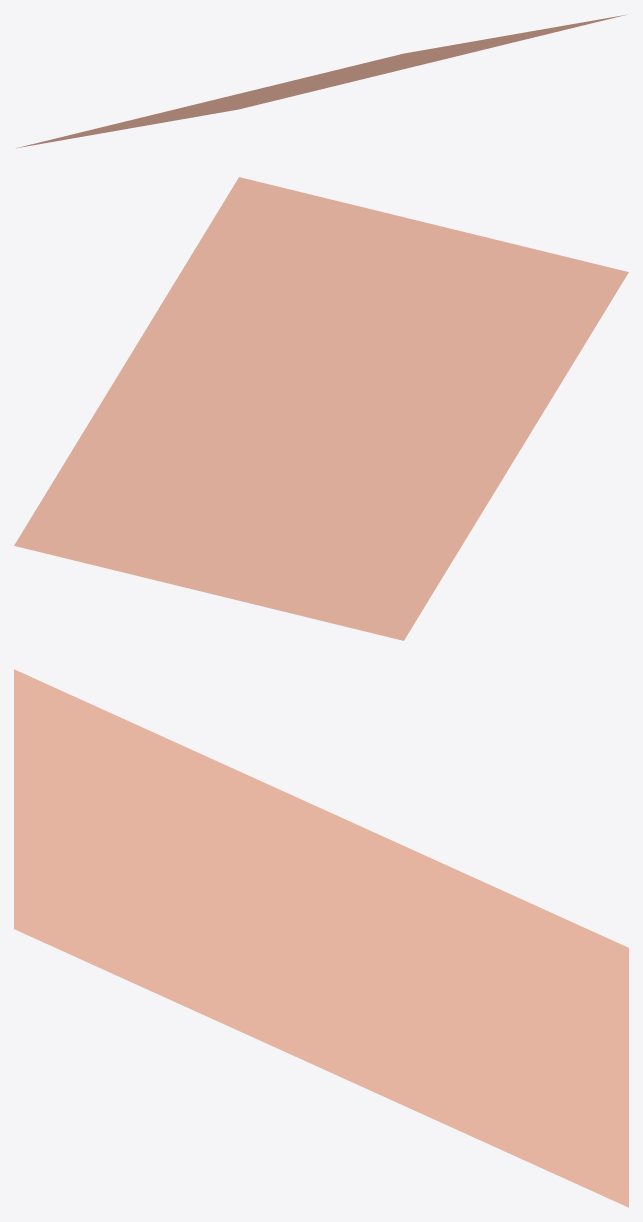
Rendered from terrain_side.glb.
The picture shows the model from 3 angles, top to bottom: view 1: azimuth 30°, elevation 25°; view 2: azimuth 150°, elevation 25°; view 3: azimuth 270°, elevation 25°; orthographic projection. The views are drawn at different scales.
Visible parts, largest first — view 1: terrain_side; view 2: terrain_side; view 3: terrain_side.
Part boxes in pixels (box(x1,y1,x2,y2)): terrain_side: box(16, 14, 626, 148); terrain_side: box(14, 177, 628, 640); terrain_side: box(14, 669, 628, 1207).
Size of the model in its own units: 1 by 0.5 by 1.
1 material, 1 textured.
